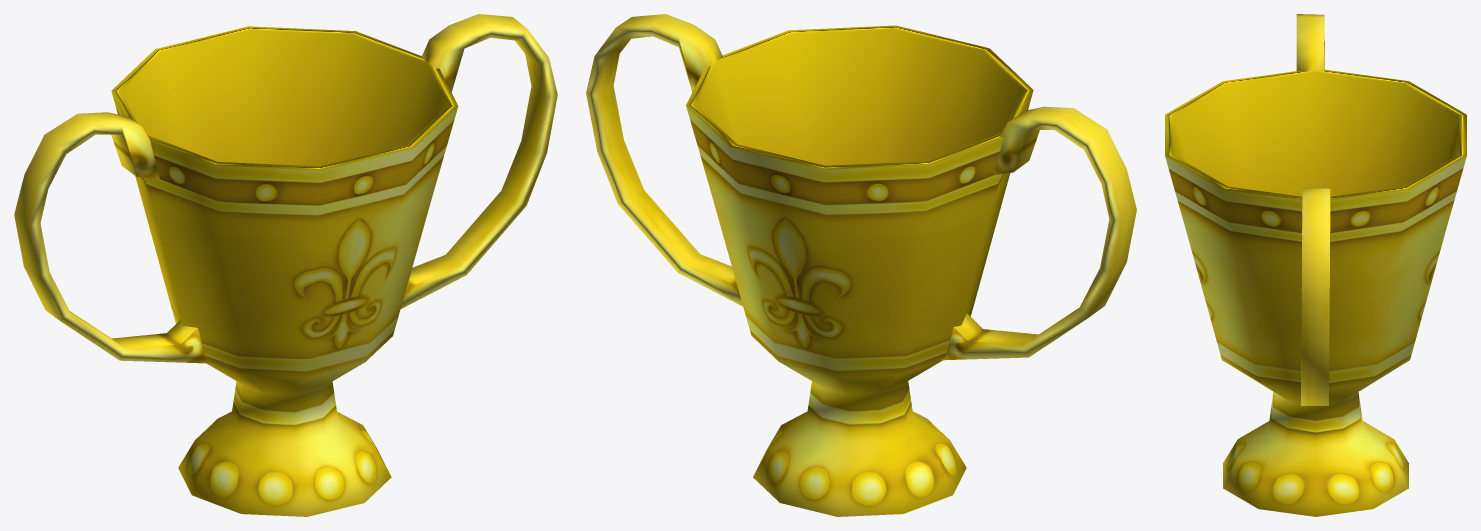
Rendered from cup_01.fbx.
3 views of the same model, side by side, from view 1: azimuth 30°, elevation 25°; view 2: azimuth 150°, elevation 25°; view 3: azimuth 270°, elevation 25° (orthographic). The views are drawn at different scales.
Visible parts, largest first — view 1: cup_01; view 2: cup_01; view 3: cup_01.
Part boxes in pixels (x1=…): cup_01: x1=14, y1=14, x2=557, y2=516; cup_01: x1=586, y1=14, x2=1136, y2=516; cup_01: x1=1165, y1=14, x2=1466, y2=516.
Bounding box in the file's own units: 27.88 × 20.3 × 15.06.
